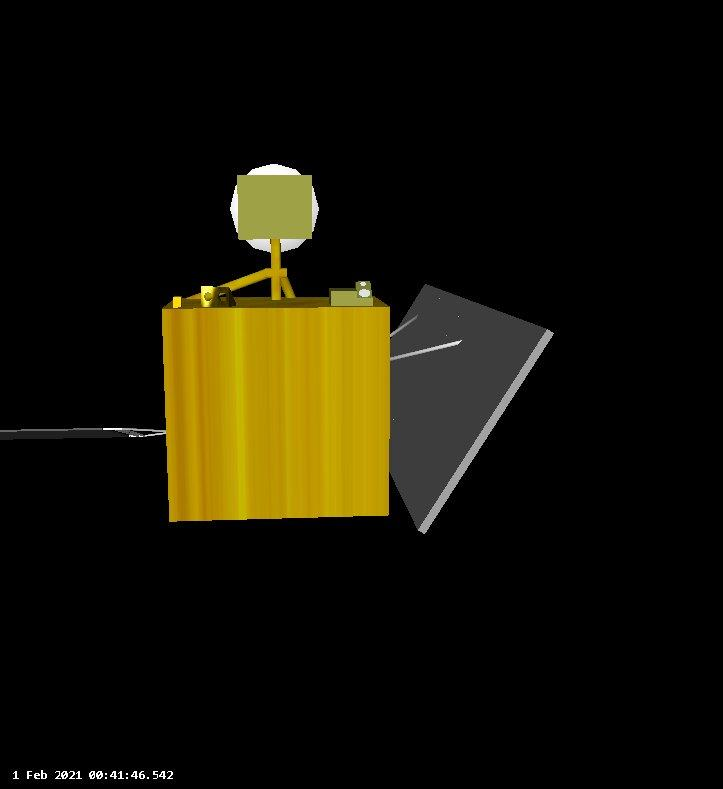antenna: (228, 160, 322, 256)
body: (158, 277, 396, 526)
solar: (394, 280, 557, 537), (0, 421, 145, 444)
